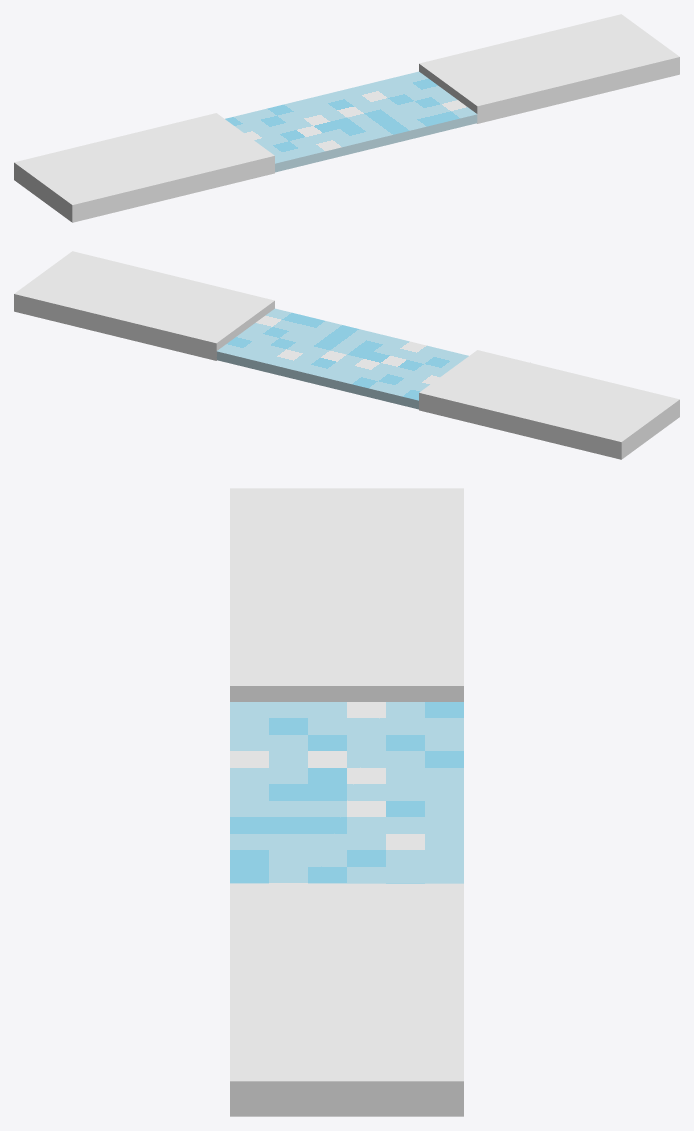
The model's file is suelo.gltf.
3 renders of one model, top to bottom at view 1: azimuth 30°, elevation 25°; view 2: azimuth 150°, elevation 25°; view 3: azimuth 270°, elevation 25°, orthographic. The views are drawn at different scales.
Visible parts, largest first — view 1: group; view 2: group; view 3: group.
Boxes of the visible parts, x1,y1,x2,y2 form: group: (14, 14, 679, 222); group: (14, 251, 679, 459); group: (230, 488, 463, 1116).
Bounding box in the file's own units: 2.25 × 0.0625 × 0.375.
Materials: 1 (1 with a texture image).
